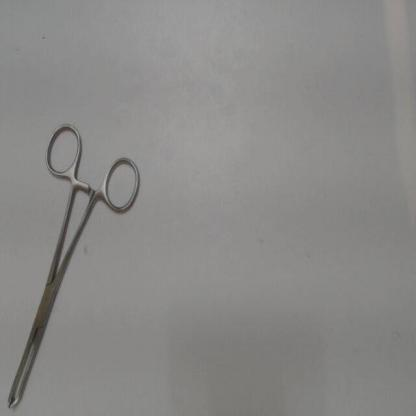Allis Tissue Forceps: (5, 113, 148, 413)
